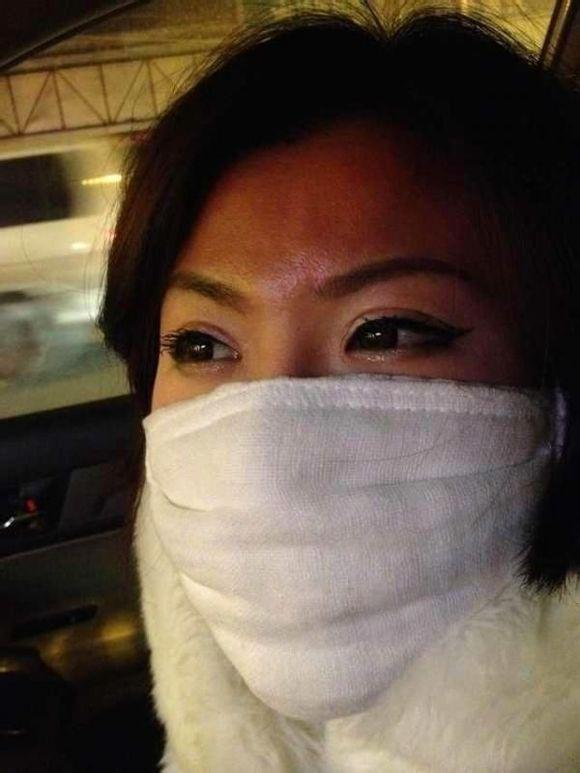OK: (143, 263, 545, 711)
